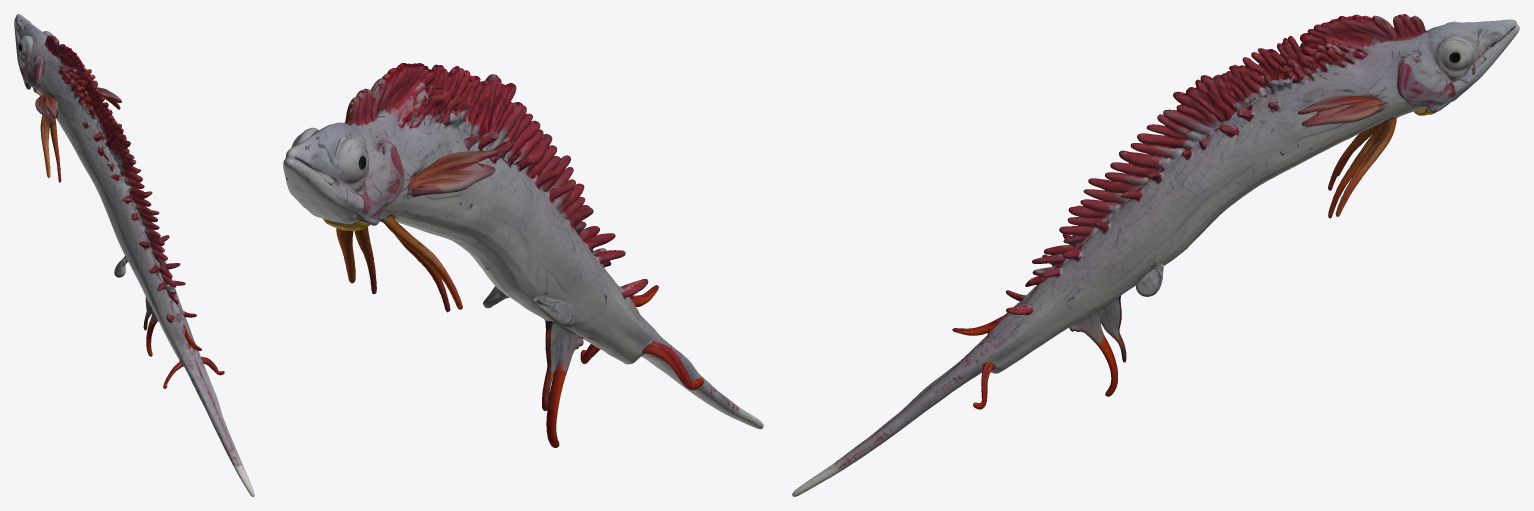
File: oarfish_g1.glb
3 renders of one model, left to right at view 1: azimuth 30°, elevation 25°; view 2: azimuth 150°, elevation 25°; view 3: azimuth 270°, elevation 25°, orthographic. The views are drawn at different scales.
Visible parts, largest first — view 1: tripo_node_99eaf581-f7e0-44cf-849b-c4efd7fc7262; view 2: tripo_node_99eaf581-f7e0-44cf-849b-c4efd7fc7262; view 3: tripo_node_99eaf581-f7e0-44cf-849b-c4efd7fc7262.
Boxes of the visible parts, x1,y1,x2,y2 form: tripo_node_99eaf581-f7e0-44cf-849b-c4efd7fc7262: [14, 14, 254, 496]; tripo_node_99eaf581-f7e0-44cf-849b-c4efd7fc7262: [283, 63, 763, 447]; tripo_node_99eaf581-f7e0-44cf-849b-c4efd7fc7262: [792, 14, 1519, 496].
Bounding box in the file's own units: 0.1668 × 0.7318 × 1.
1 material, 1 textured.
